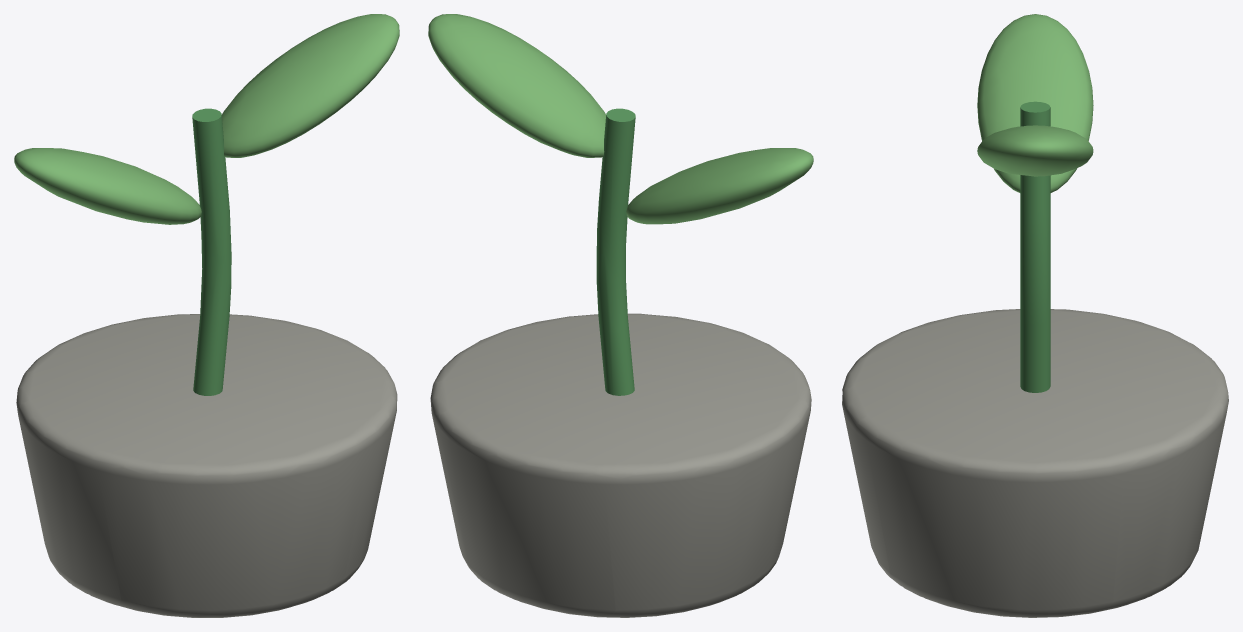
The model's file is noice.glb.
The picture shows the model from 3 angles, left to right: view 1: azimuth 30°, elevation 25°; view 2: azimuth 150°, elevation 25°; view 3: azimuth 270°, elevation 25°; orthographic projection.
Visible parts, largest first — view 1: pot, noice_sapling; view 2: pot, noice_sapling; view 3: pot, noice_sapling.
Part boxes in pixels (x1=…): pot: x1=16, y1=314, x2=397, y2=617; noice_sapling: x1=14, y1=14, x2=399, y2=395; pot: x1=430, y1=313, x2=811, y2=617; noice_sapling: x1=428, y1=14, x2=813, y2=395; pot: x1=842, y1=309, x2=1228, y2=617; noice_sapling: x1=977, y1=14, x2=1093, y2=392.
Bounding box in the file's own units: 0.7617 × 0.9555 × 0.6661.
